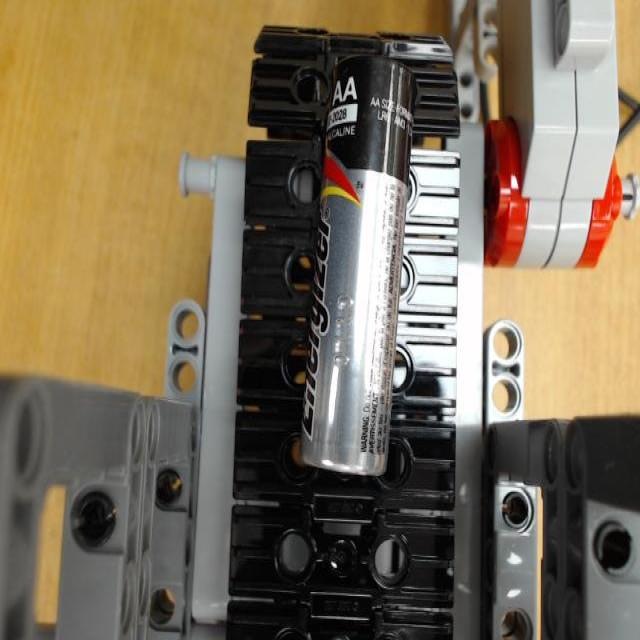AA: (299, 56, 414, 475)
